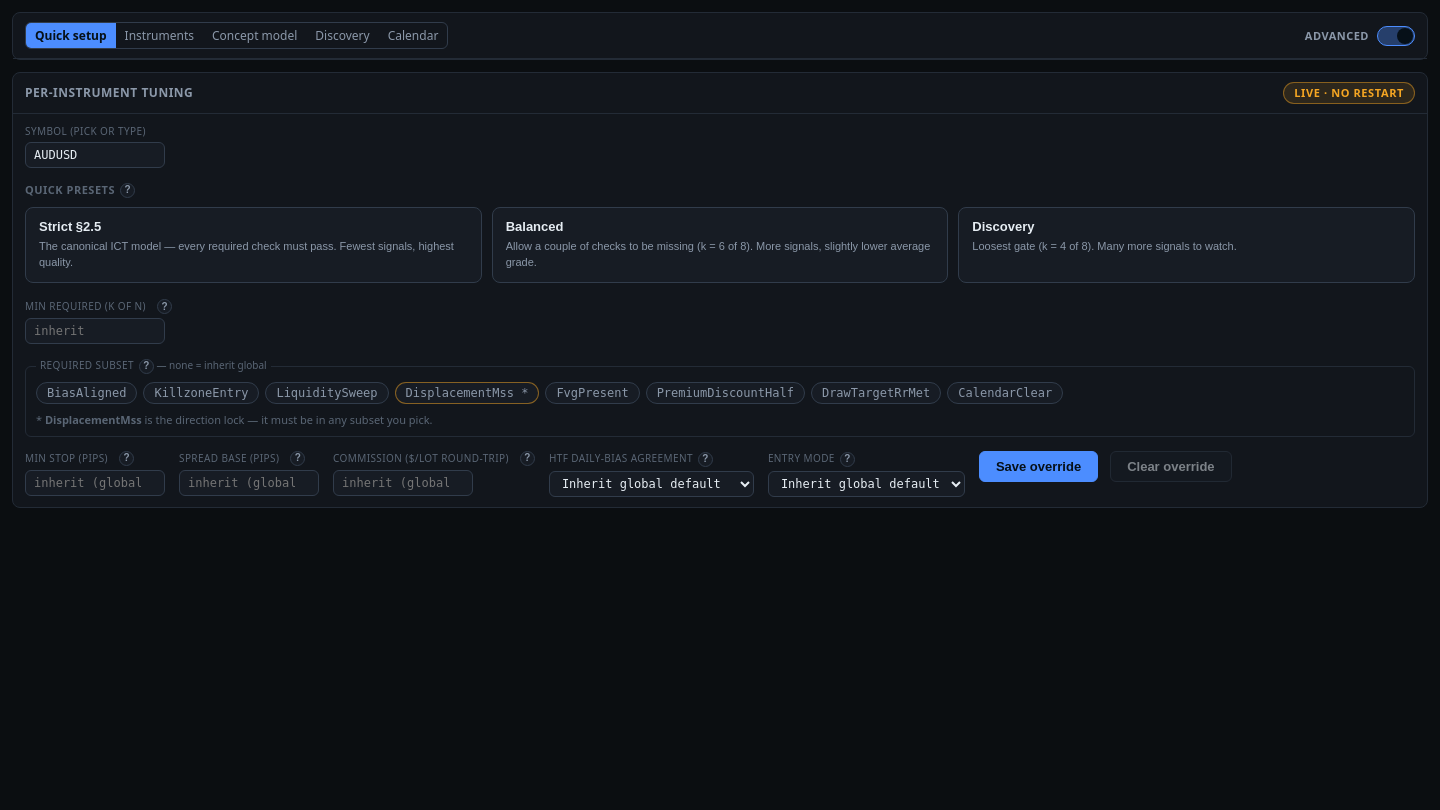
SettingsPage › blocks a required subset that omits DisplacementMss (the FSM direction lock)
expect the form named "instrument override form" is shown: met, box [25,299,1415,497]
// Select a single required condition that is NOT the direction lock, then save.
Click the button "BiasAligned": (87, 393) [36,382,138,404]
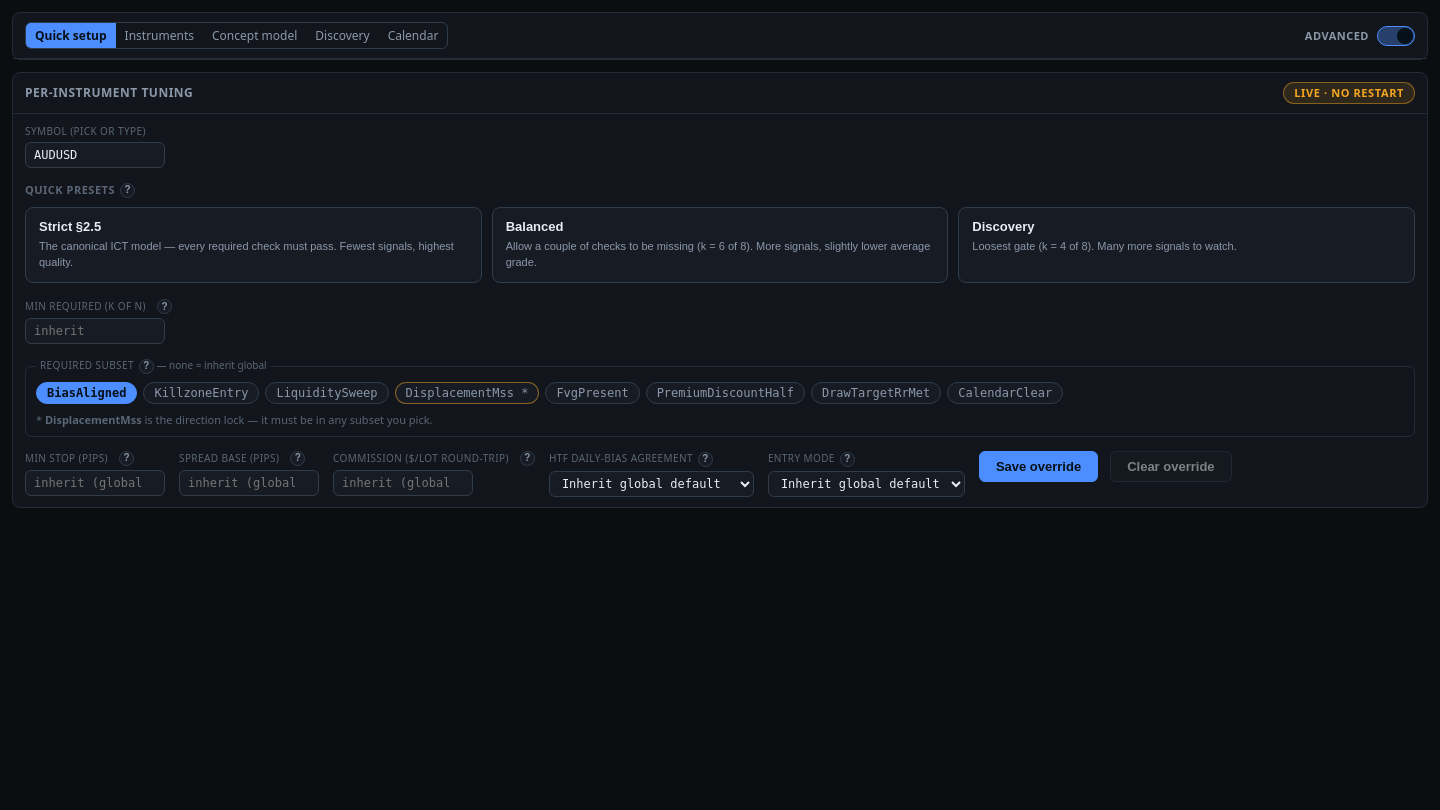
Submit the form named "instrument override form", box [25,299,1415,497]
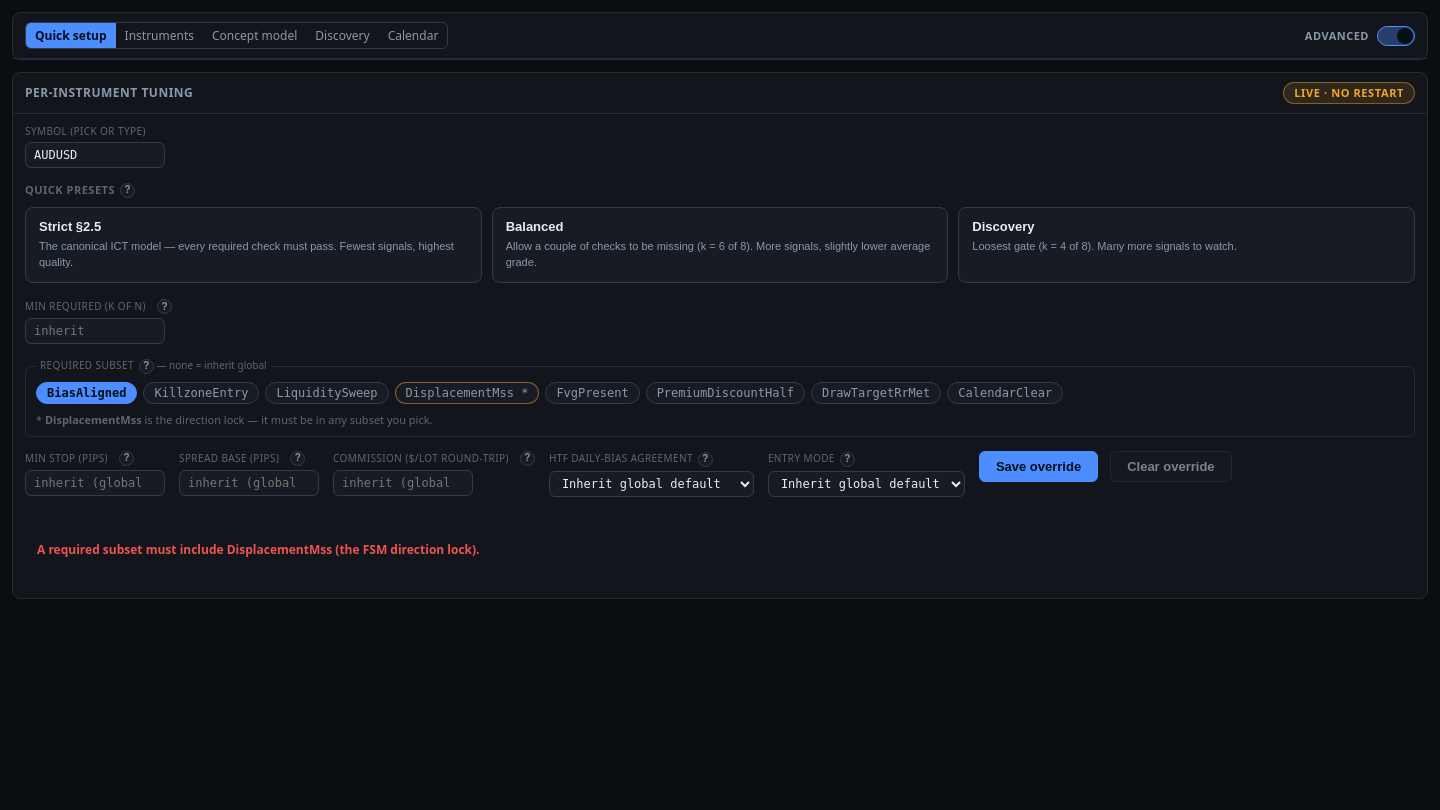
expect the message shows "must include DisplacementMss": met, box [37,541,480,558]
